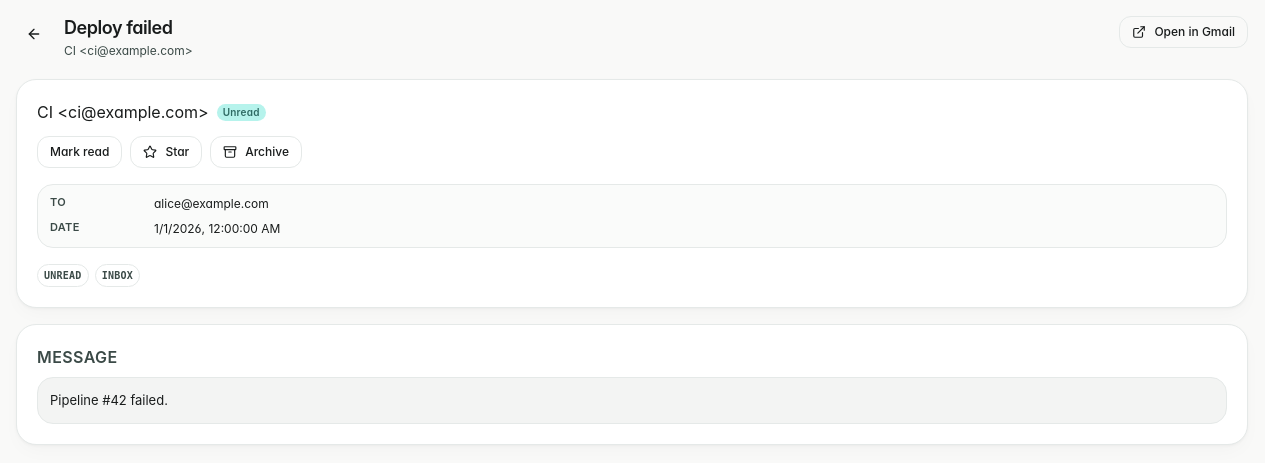
Test: GmailMessagePage › marks message as read
Click the button "Mark read".
click(80, 152)  # box [37, 136, 122, 168]
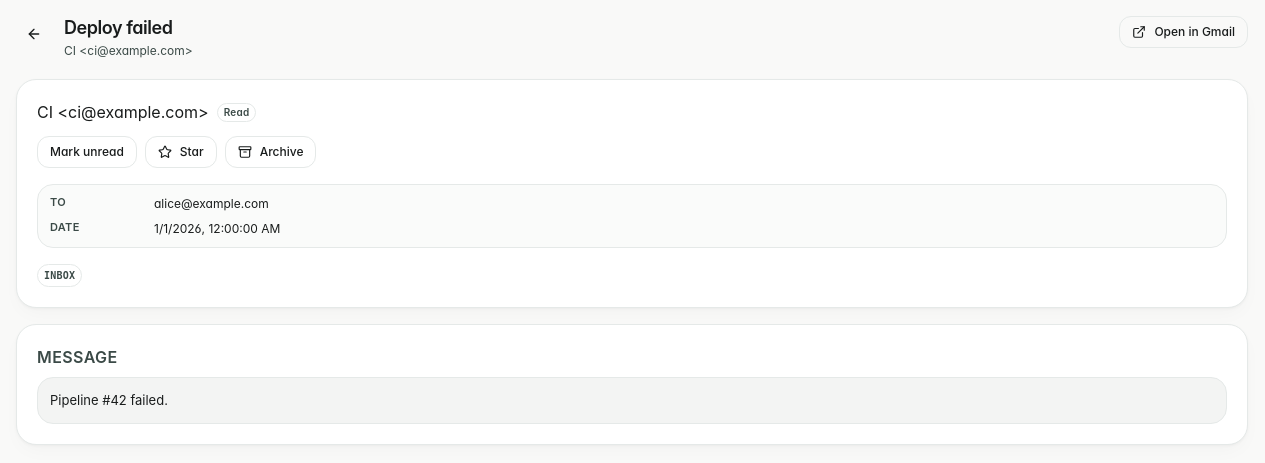
expect the button "Mark unread" is shown: met, box [37, 136, 137, 168]
